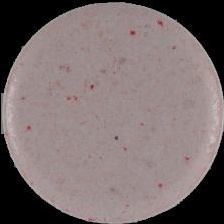0781-5554: (0, 0, 224, 224)
